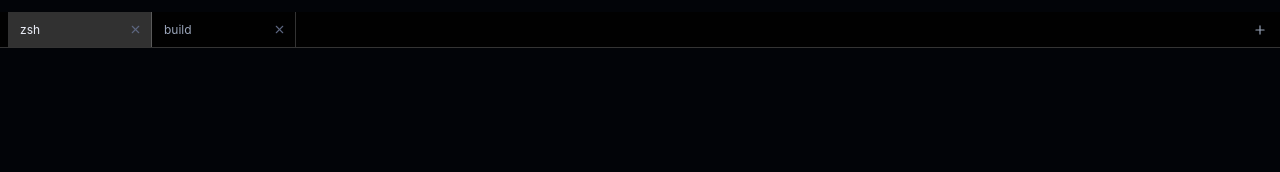
Test: TabBar › disambiguates move destinations against the excluded source workspace
The image size is (1280, 172).
Note: the source tab's menu excludes its own workspace from move targets.
Right-click the button "zsh" at coordinates (66, 30), box [8, 12, 123, 47]
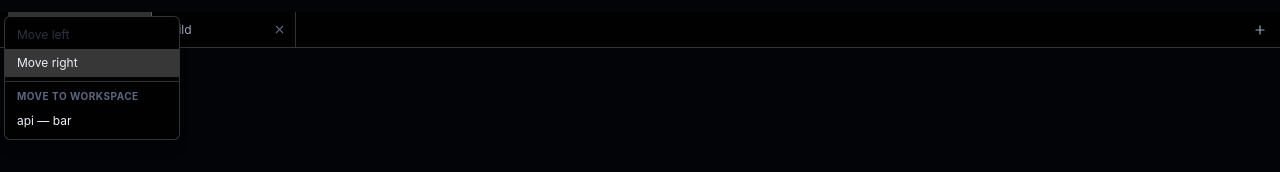
Expected: the menu item "api — bar" is shown, [5, 107, 179, 135]
